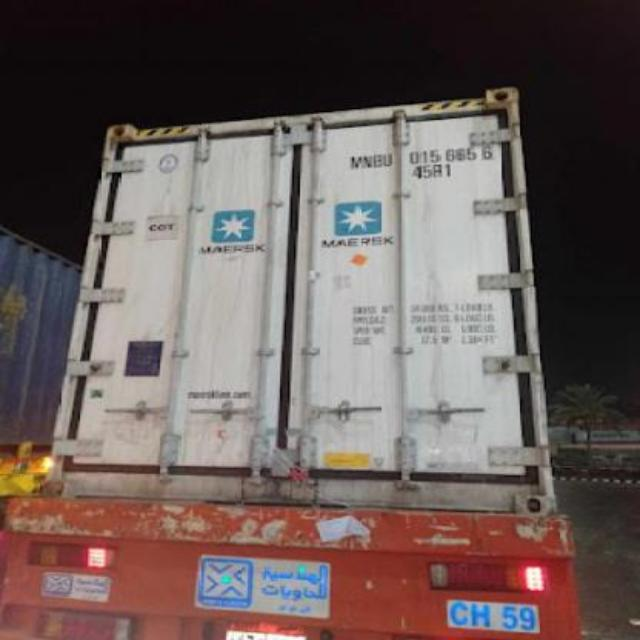0: (410, 154, 418, 162)
1: (422, 152, 428, 164)
5: (466, 146, 478, 162), (430, 148, 440, 164)
6: (454, 148, 466, 162), (482, 144, 492, 160), (444, 148, 452, 162)
B: (374, 154, 382, 168)
M: (350, 156, 362, 168)
N: (364, 156, 374, 168)
U: (384, 152, 392, 168)
